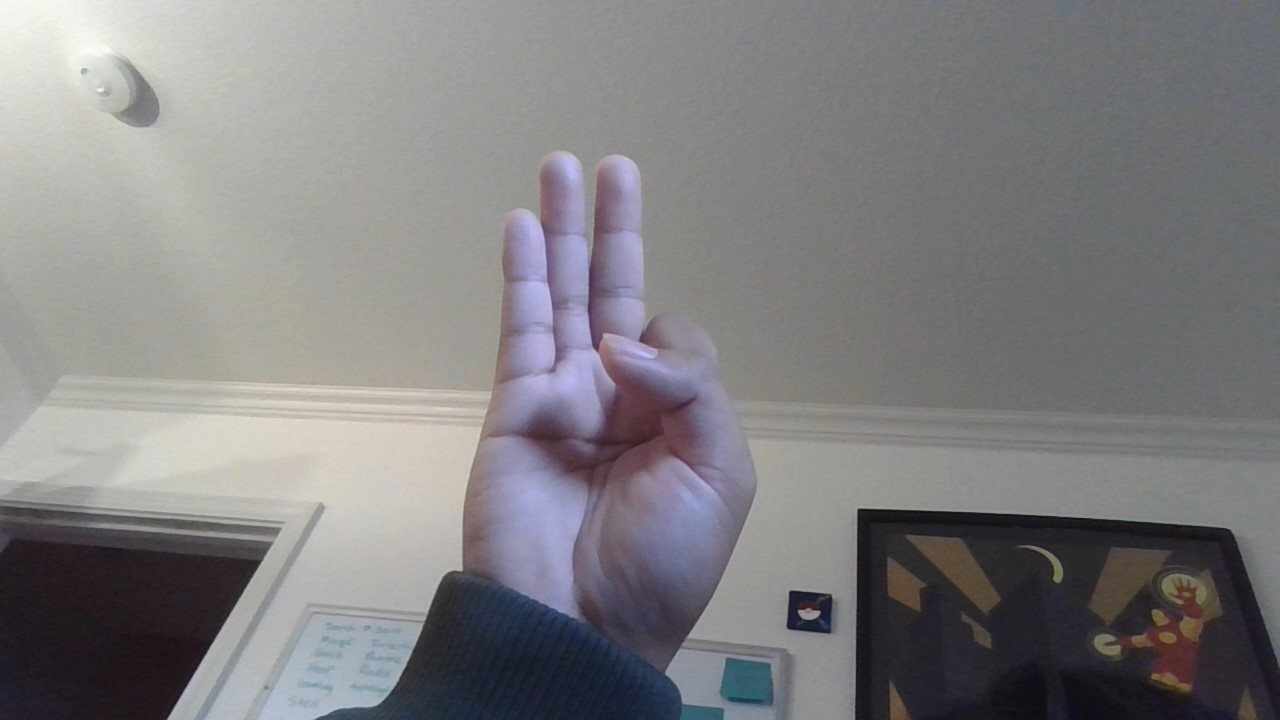f: (399, 126, 795, 698)
